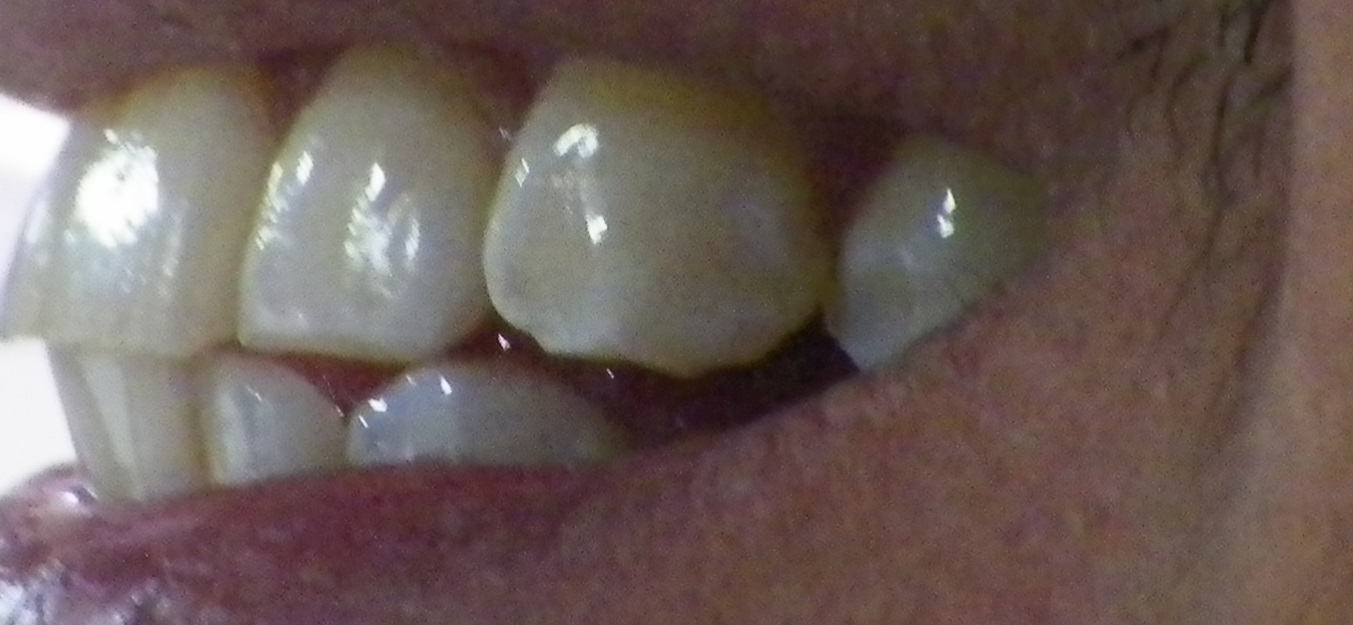boca: (18, 63, 1013, 499)
